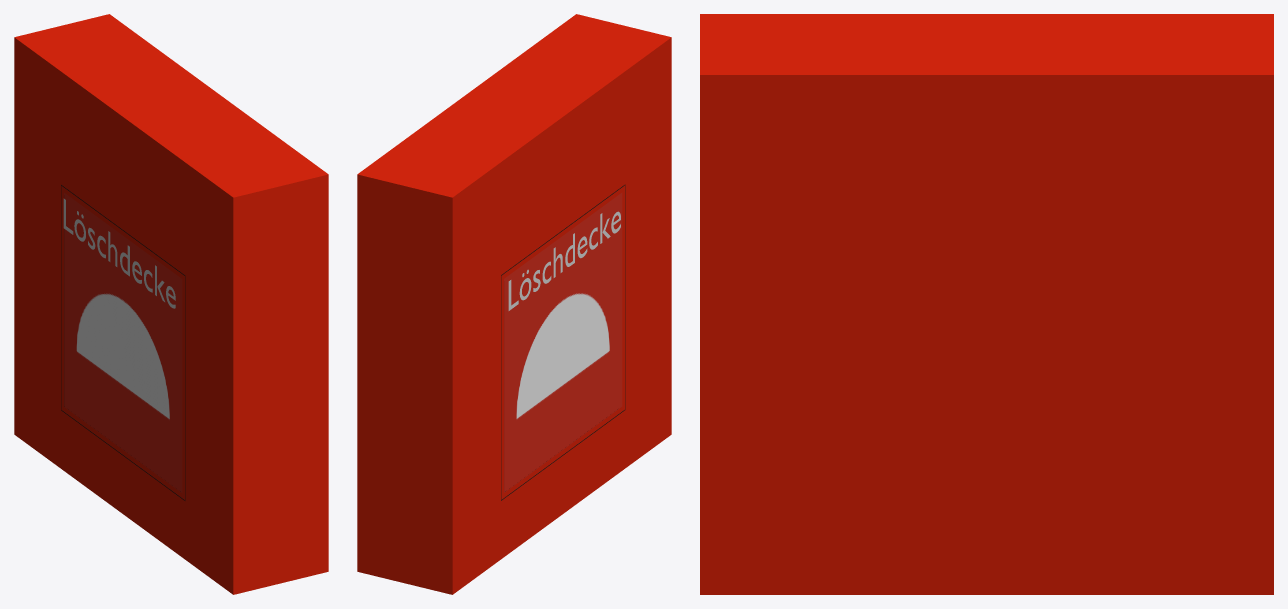
The model's file is Loeschdecke.fbx.
The picture shows the model from 3 angles, left to right: view 1: azimuth 30°, elevation 25°; view 2: azimuth 150°, elevation 25°; view 3: azimuth 270°, elevation 25°; orthographic projection. The views are drawn at different scales.
Visible parts, largest first — view 1: Cube, Decke, Text; view 2: Cube, Decke, Text; view 3: Cube.
Part boxes in pixels (box(x1,y1,x2,y2)): Cube: box(14, 14, 328, 594); Decke: box(61, 185, 185, 500); Text: box(63, 198, 175, 308); Cube: box(357, 14, 671, 594); Decke: box(501, 184, 625, 500); Text: box(508, 211, 620, 310); Cube: box(700, 14, 1273, 594).
Size of the model in its own units: 5.89 by 22.65 by 22.65.
